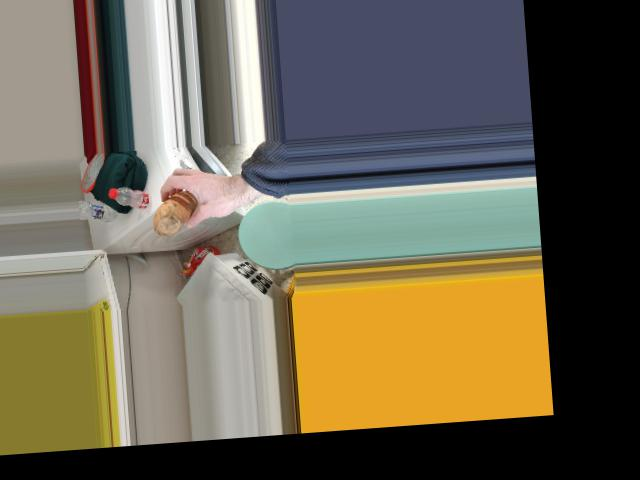sweet_potato: (152, 190, 202, 234)
